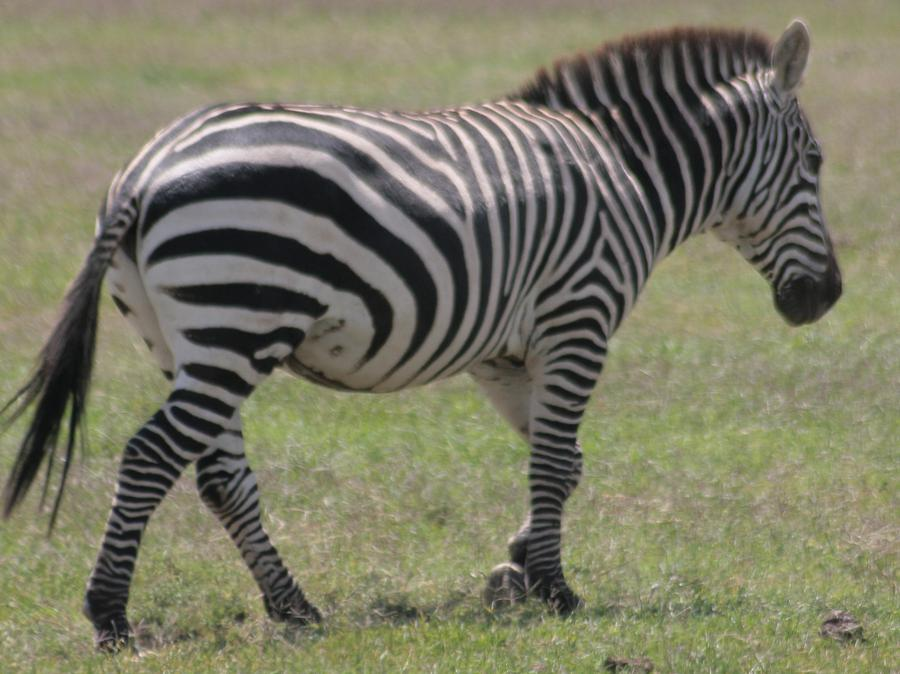zebra_plains: (156, 90, 645, 407)
